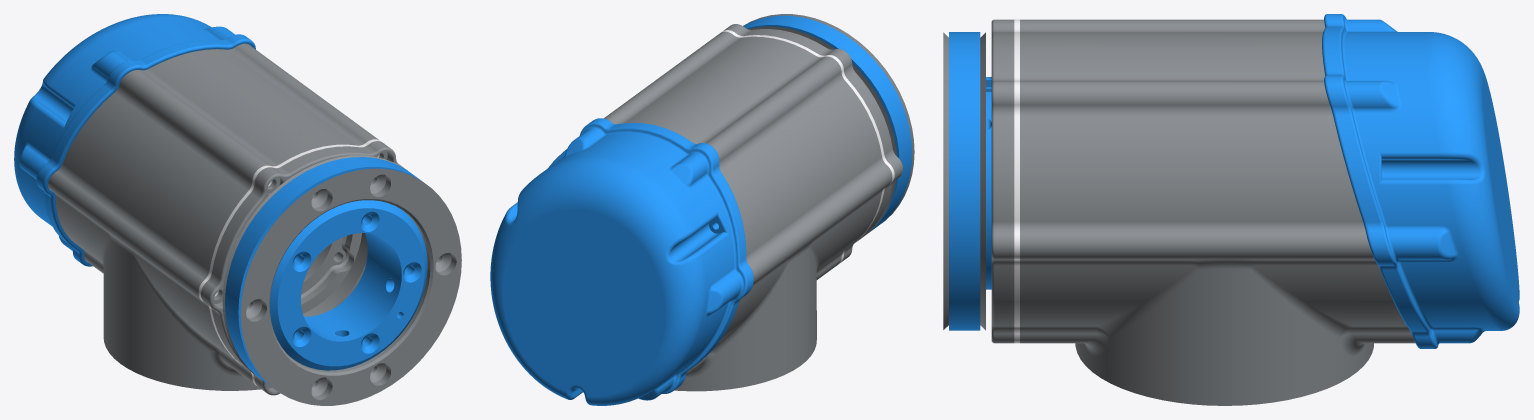
3 views of the same model, side by side, from view 1: azimuth 30°, elevation 25°; view 2: azimuth 150°, elevation 25°; view 3: azimuth 270°, elevation 25° (orthographic). The views are drawn at different scales.
Visible parts, largest first — view 1: revolute_m_visual; view 2: revolute_m_visual; view 3: revolute_m_visual.
Part boxes in pixels (x1,y1,x2,y2): revolute_m_visual: [14, 14, 461, 405]; revolute_m_visual: [490, 14, 914, 405]; revolute_m_visual: [943, 14, 1519, 405].
Bounding box in the file's own units: 0.118 × 0.117 × 0.2025.
